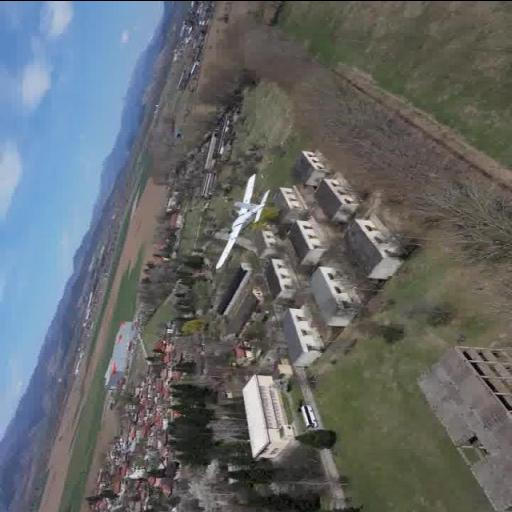uav: (209, 170, 277, 268)
